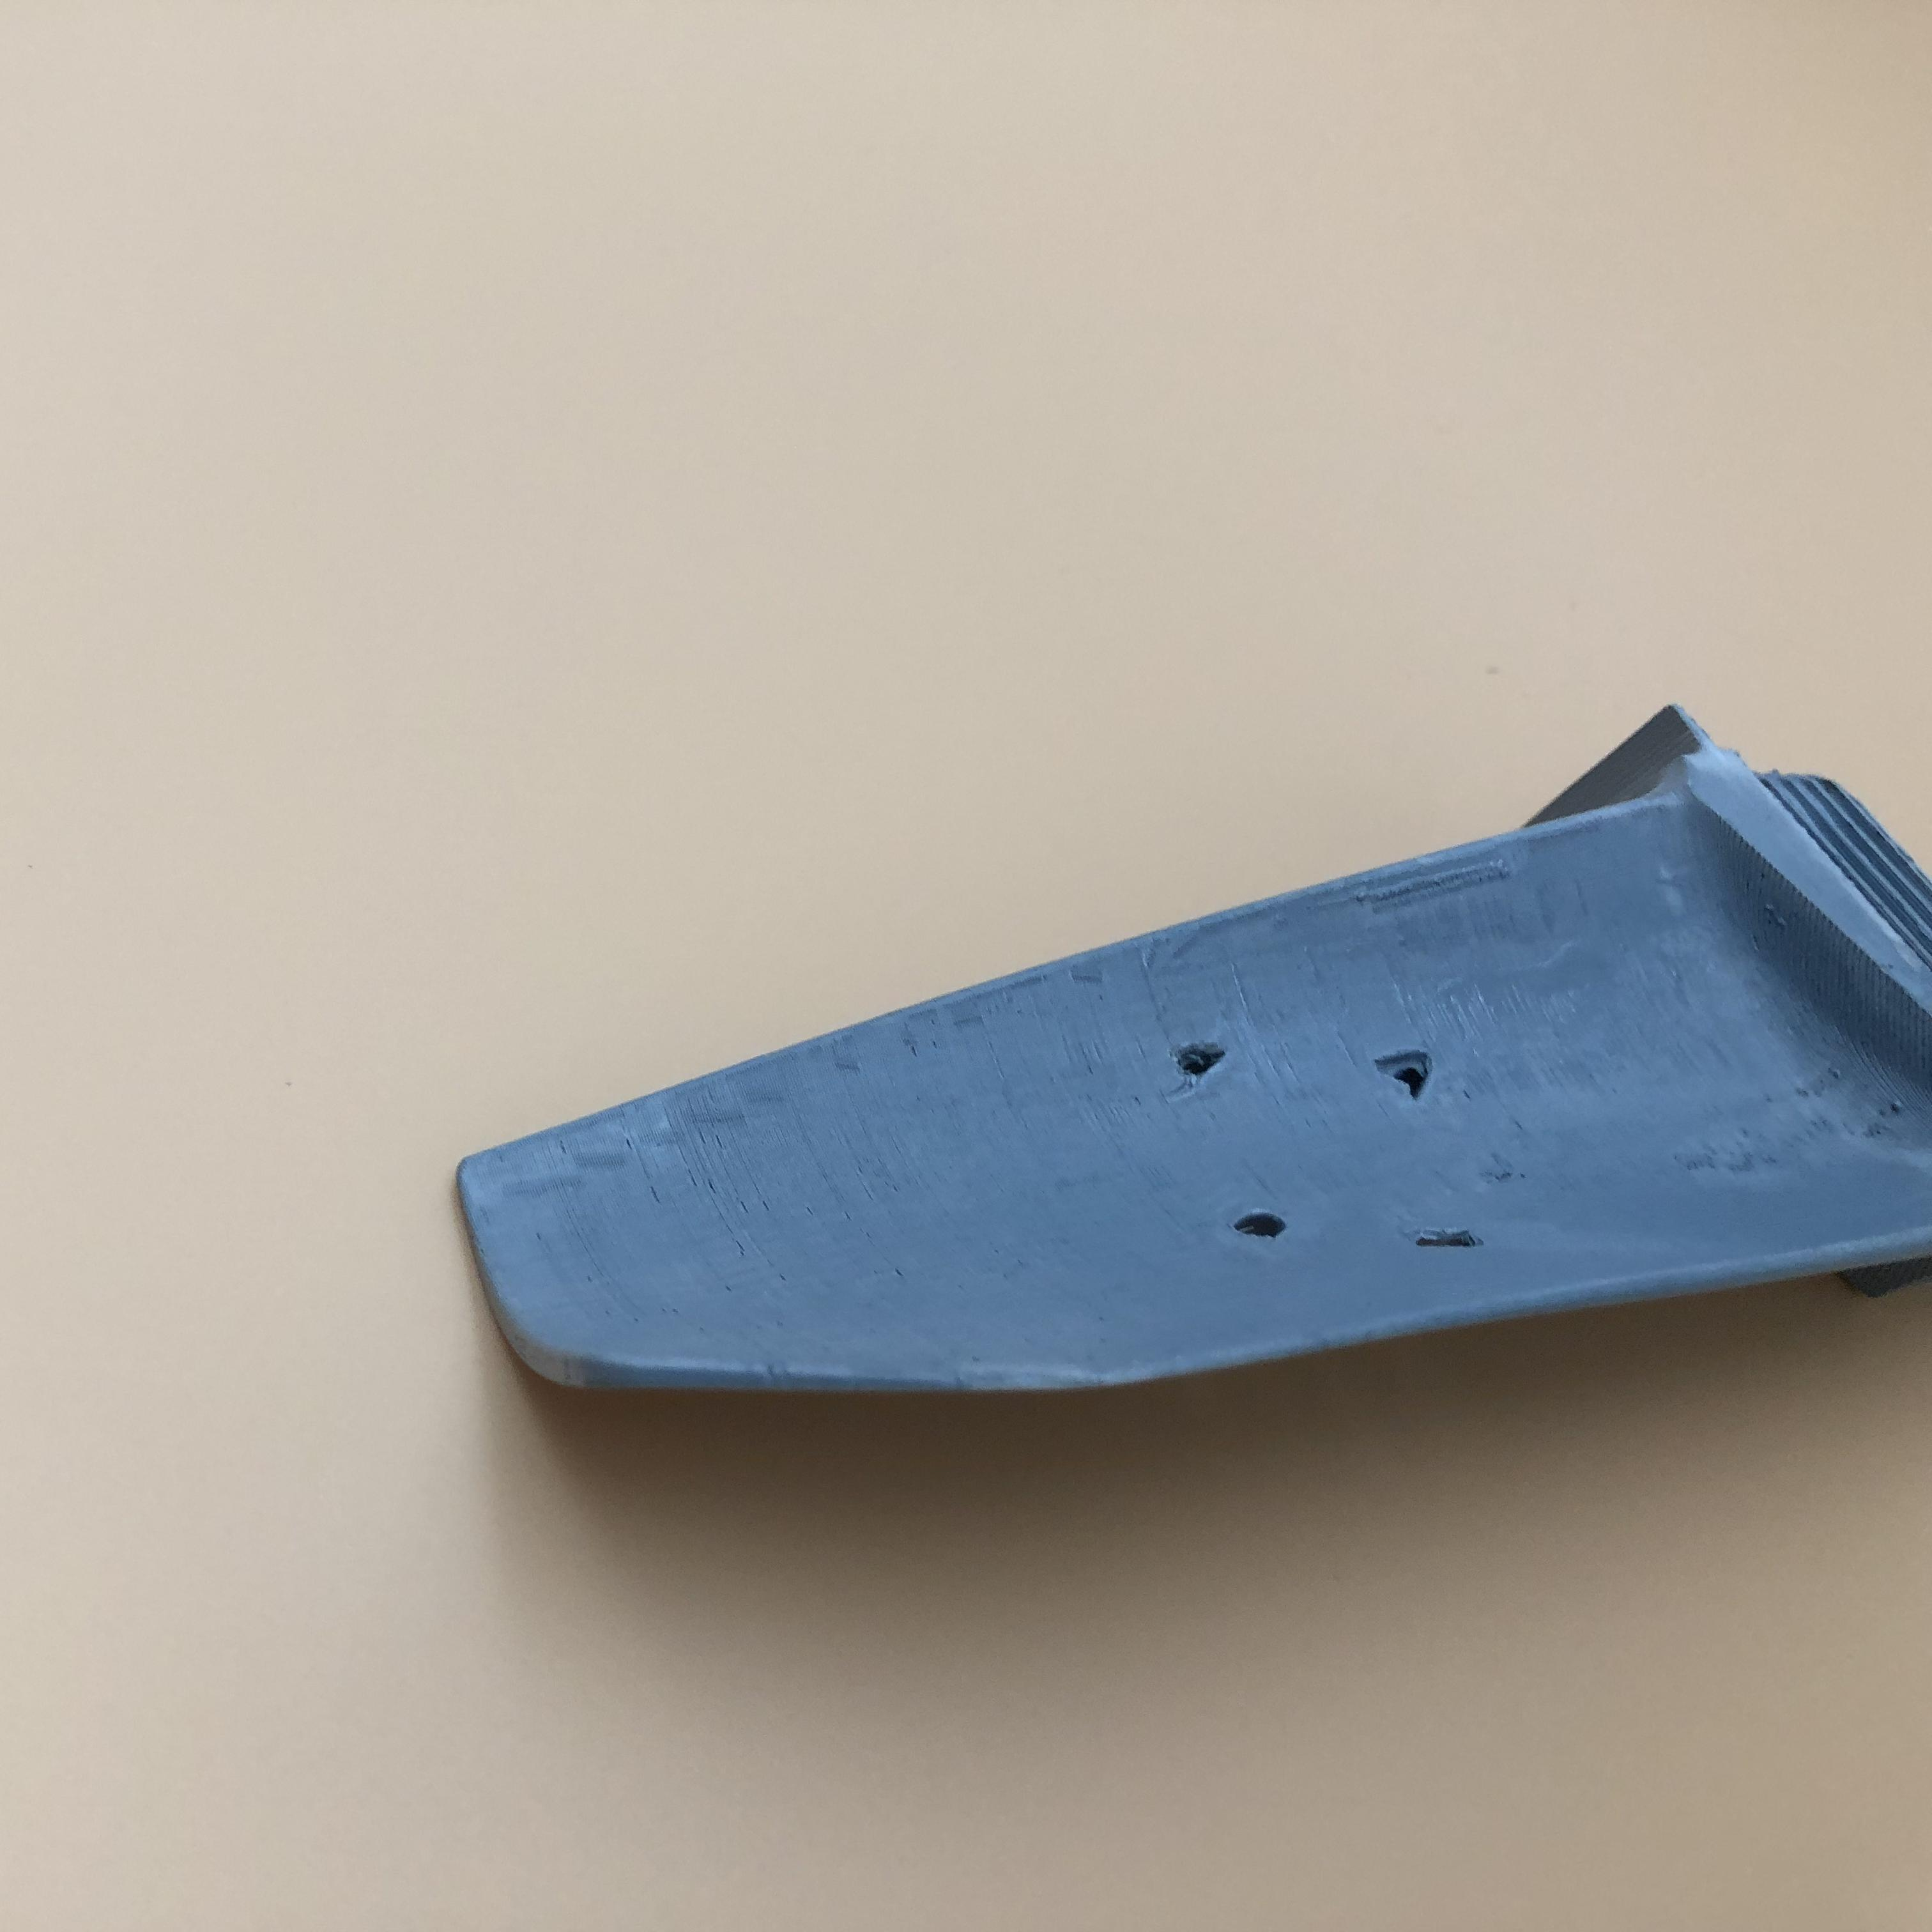breakdown: (1178, 1030, 1483, 1253)
